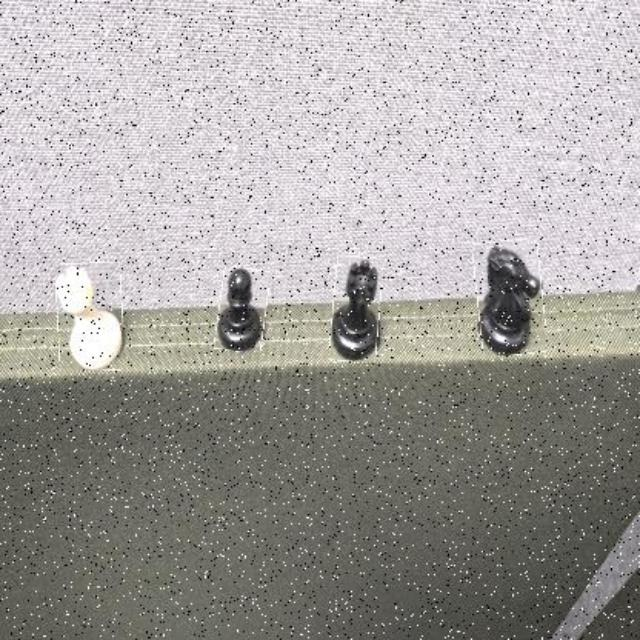black-knight: (476, 240, 546, 356)
black-pawn: (218, 268, 268, 352)
black-rook: (332, 256, 381, 362)
white-rook: (58, 263, 124, 371)
